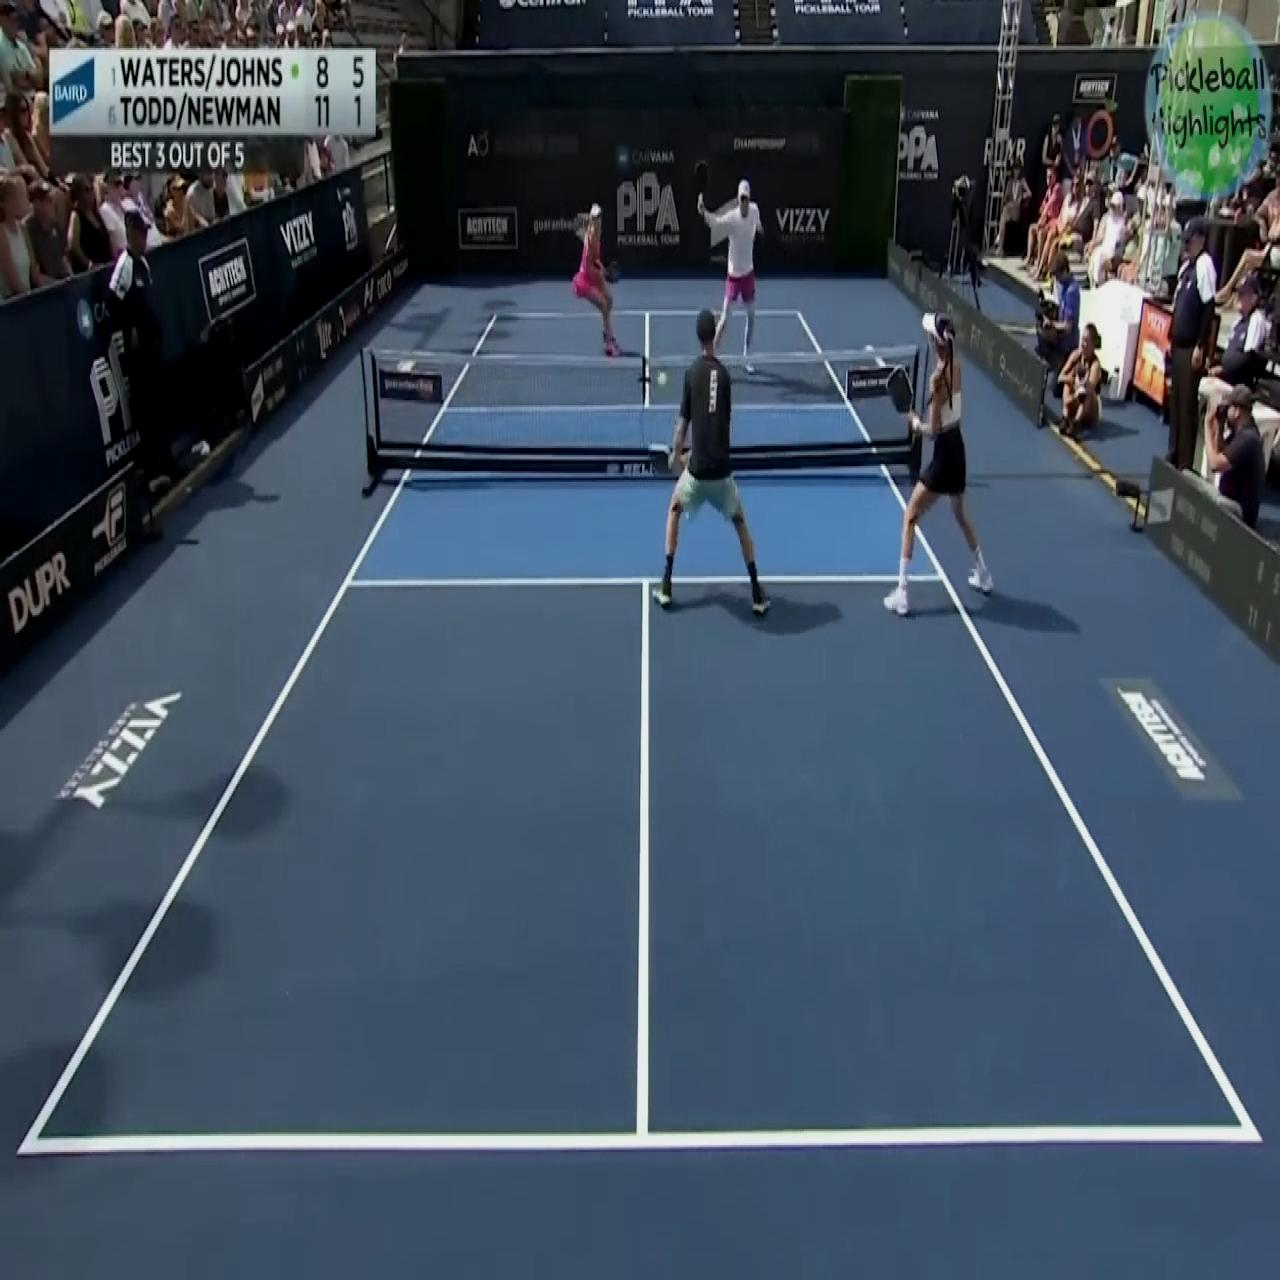Pickleball: (655, 362, 670, 390)
